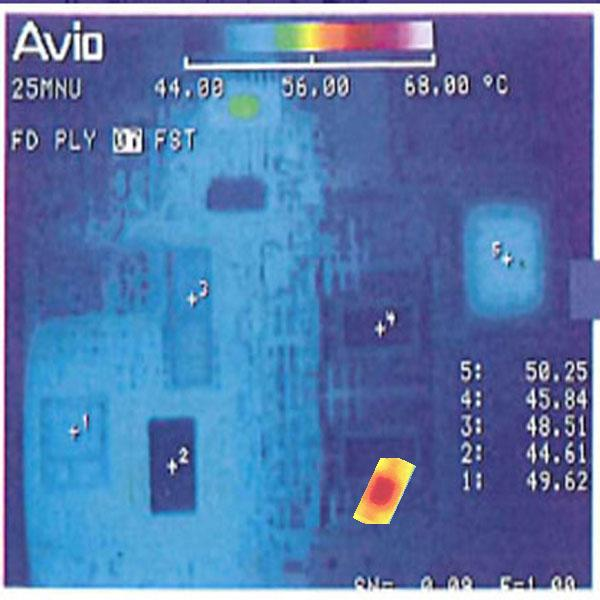componente_T: (349, 454, 420, 530), (285, 22, 355, 54)
